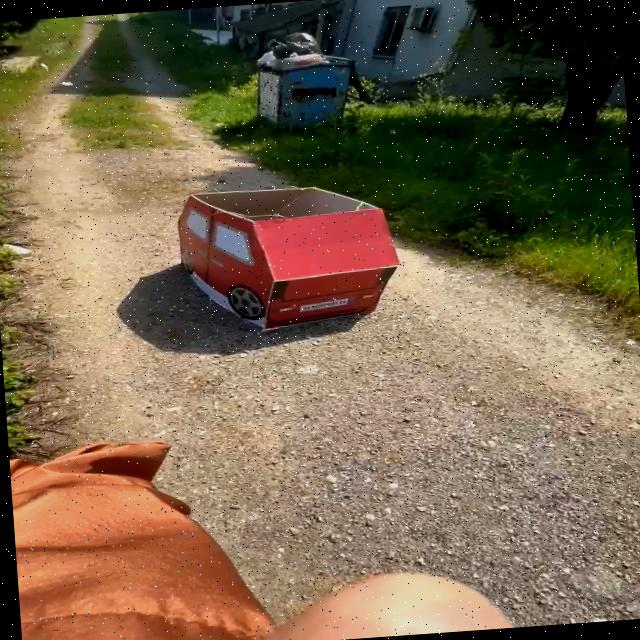red_car: (146, 173, 408, 346)
